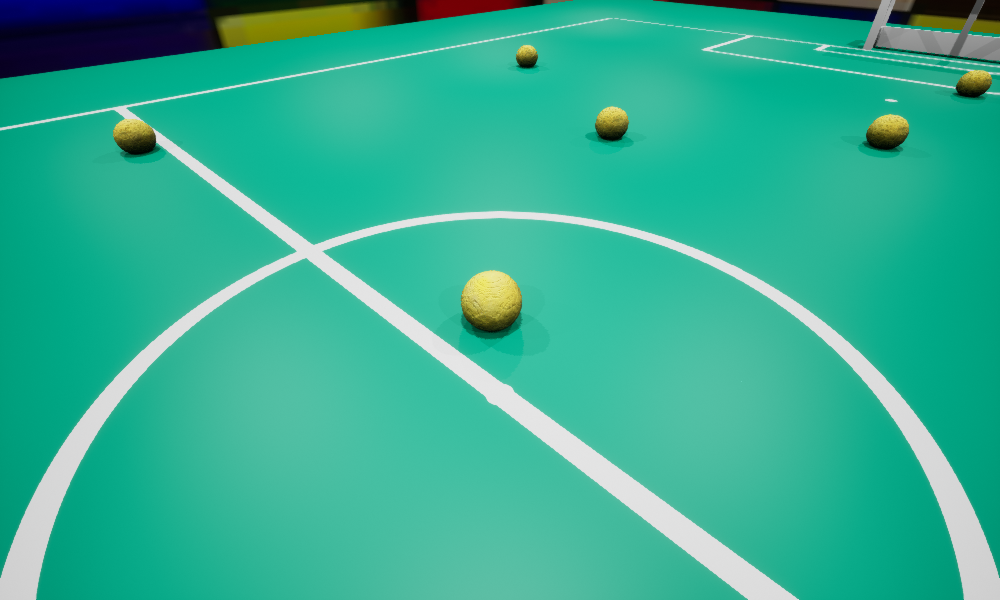b: (461, 270, 521, 331), (113, 119, 155, 153), (866, 114, 908, 148), (595, 106, 628, 139), (956, 70, 991, 95), (516, 45, 537, 67)
g: (863, 0, 999, 60)
